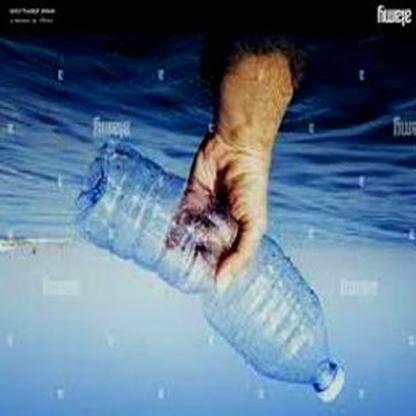plastic bottle: (76, 139, 345, 402)
